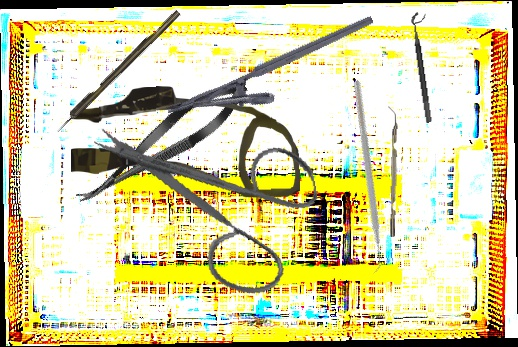Cannula: (70, 84, 300, 201)
Chopper: (268, 79, 459, 278), (383, 105, 400, 238)
Fixation Ring: (409, 10, 442, 124)
Hook Surgical: (52, 8, 183, 135)
Iris Scissors: (91, 87, 334, 321)
Micro Scissor: (68, 69, 257, 218)
Needle Holder: (165, 14, 387, 144)
